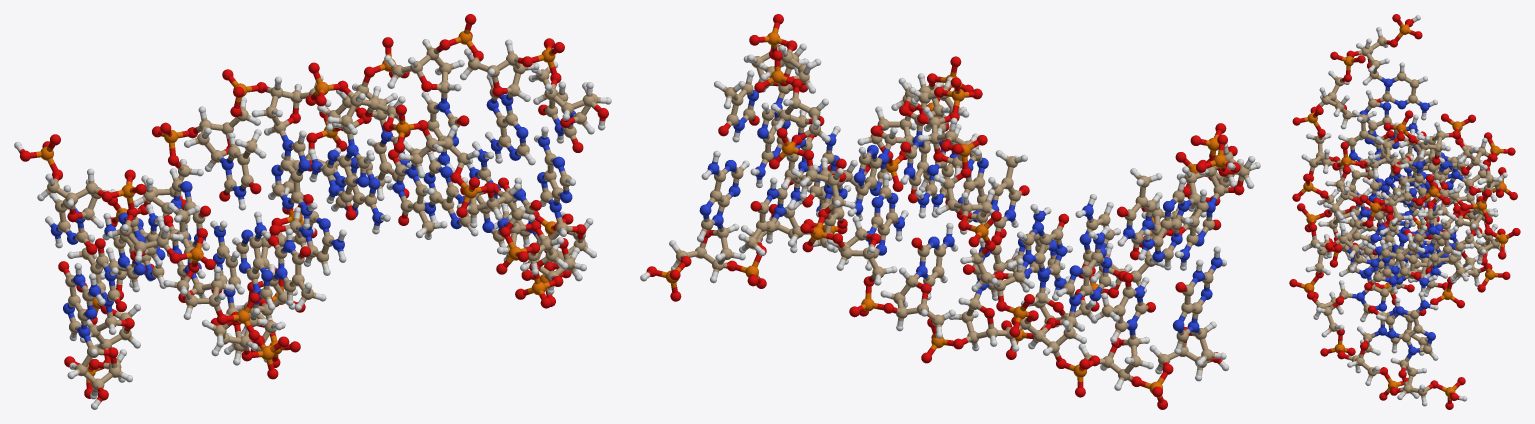
File: adn.glb
The picture shows the model from 3 angles, left to right: view 1: azimuth 30°, elevation 25°; view 2: azimuth 150°, elevation 25°; view 3: azimuth 270°, elevation 25°; orthographic projection. The views are drawn at different scales.
Visible parts, largest first — view 1: atoms; view 2: atoms; view 3: atoms.
Part boxes in pixels (x1,y1,x2,y2): atoms: (14,14,611,409); atoms: (640,14,1260,409); atoms: (1289,14,1520,409).
Bounding box in the file's own units: 44.97 × 21.11 × 20.86.
